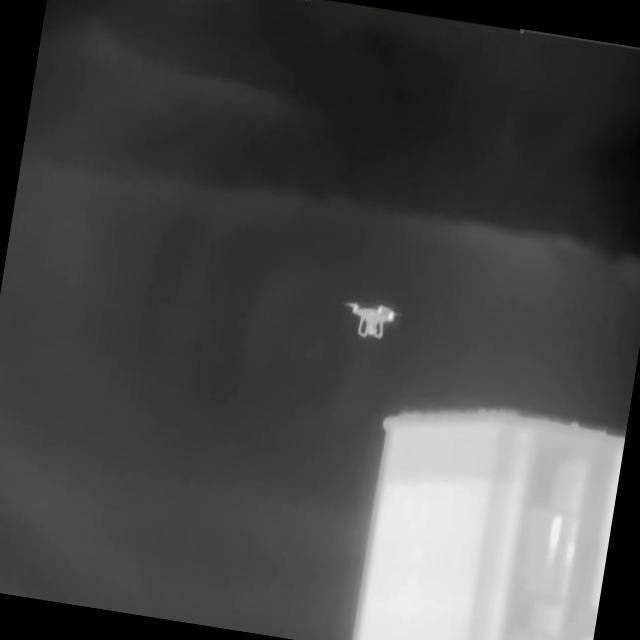DRONE: (344, 297, 401, 344)
